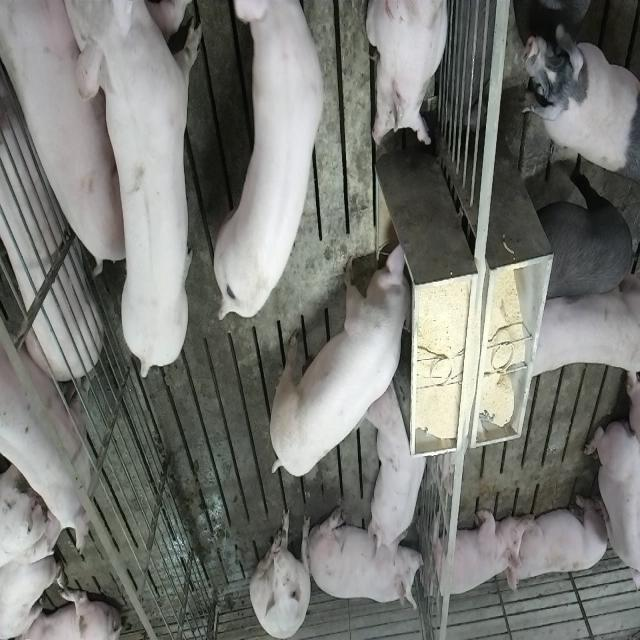Feeding: (265, 237, 411, 478)
Lateral_lying: (0, 31, 101, 381)
Sitting: (250, 505, 312, 639)
Standing: (76, 3, 202, 383), (216, 1, 330, 322), (0, 307, 91, 551), (520, 22, 638, 177), (528, 158, 636, 302), (522, 270, 638, 384)
Sternal_lying: (366, 0, 451, 150), (369, 378, 432, 562), (314, 508, 422, 611), (584, 417, 638, 605), (509, 491, 612, 589), (426, 506, 524, 604)
